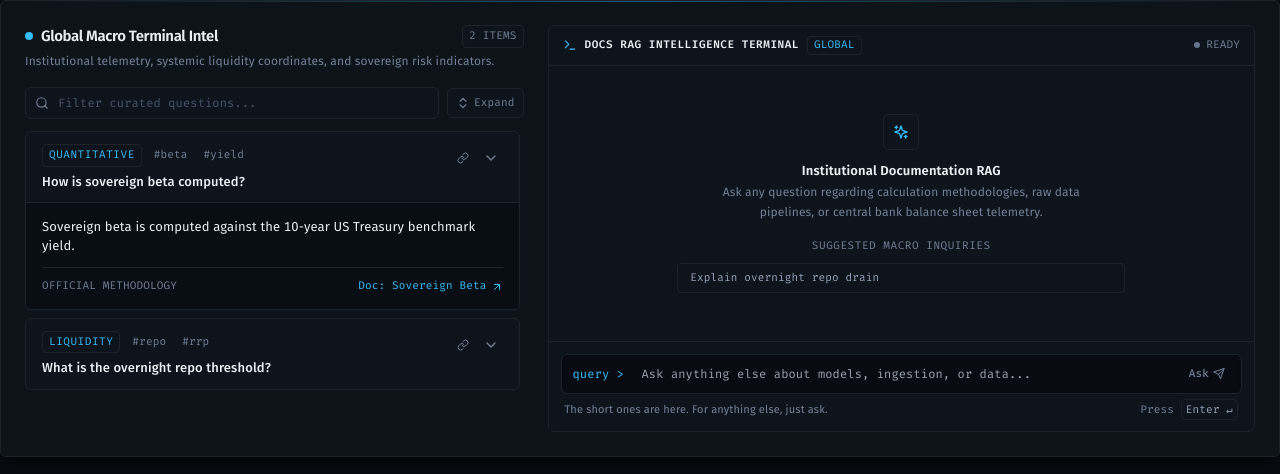
Test: InfiniteFAQ Component › populates and queries suggested prompts
Click the text "Explain overnight repo drain".
click(785, 278)  # box [690, 270, 879, 286]
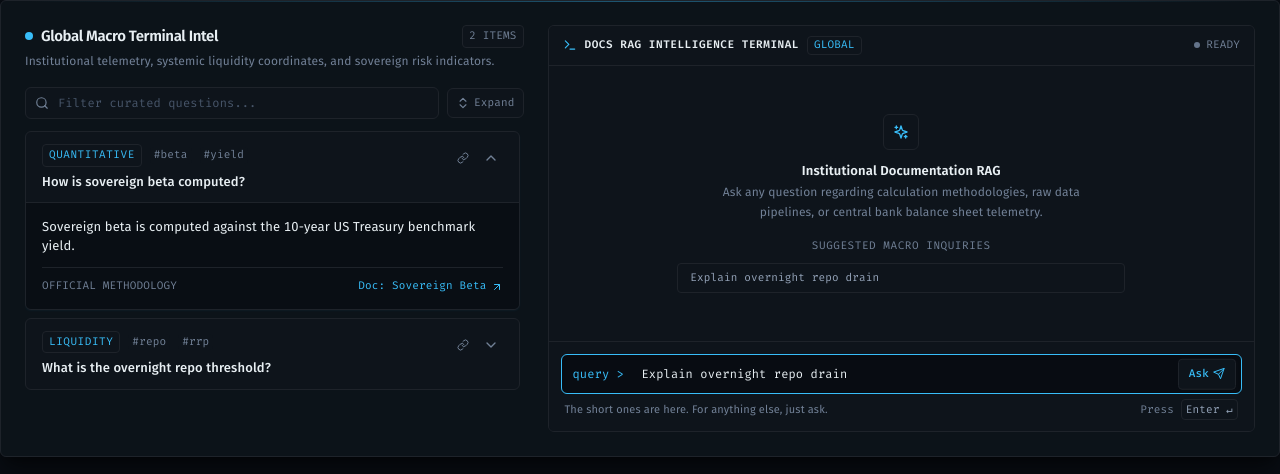
Now the field with placeholder "Ask anything else about models, ingestion, or data..." holds "Explain overnight repo drain", box [560, 354, 1242, 394]
